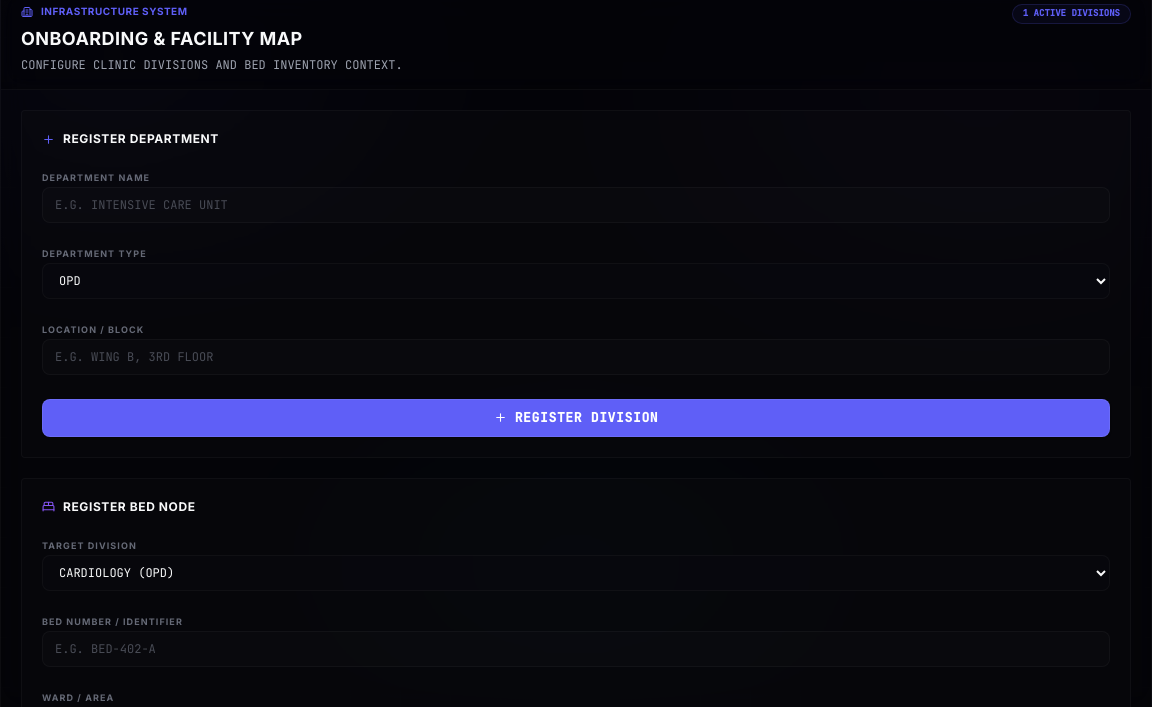
Test: HospitalSetupPanel › creates a bed for the selected department
Select "Cardiology (OPD)" in the dropdown named "Bed department" at (576, 572), box [42,554,1110,590]
Type "ICU-01" into the field labelled "Bed Number" at (576, 648), box [42,630,1110,666]
(page scrolled)
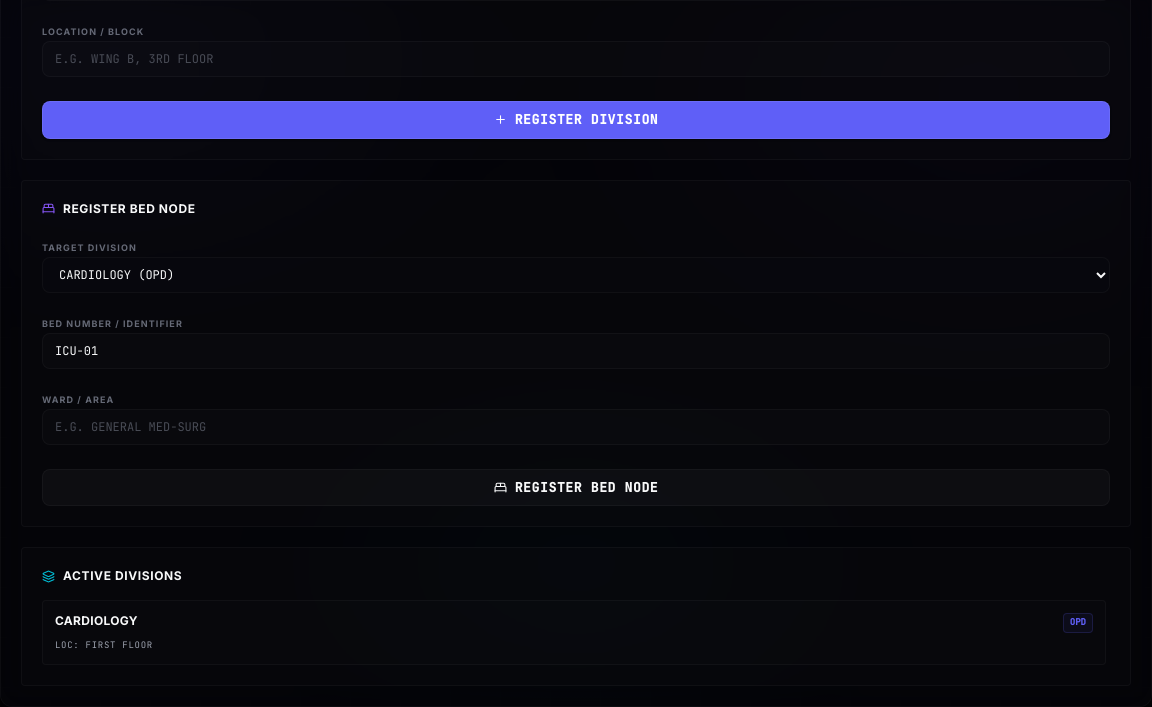
Type "ICU" into the field labelled "Ward" at (576, 426), box [42,408,1110,444]
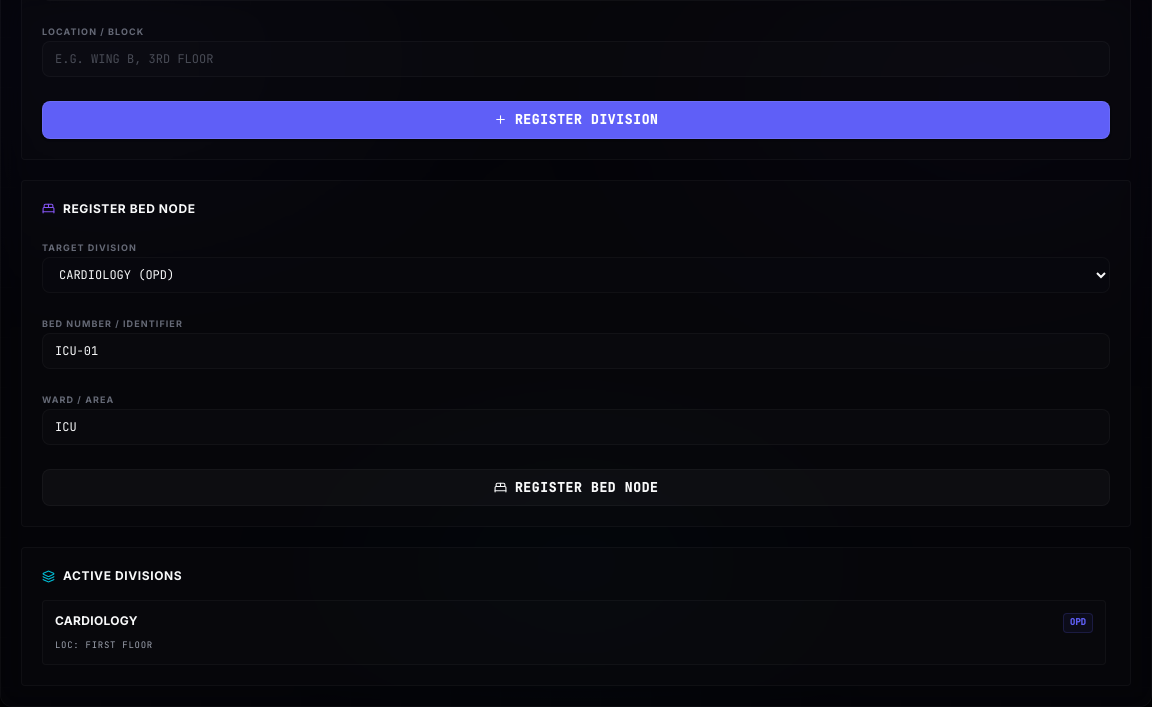
Click the button "Register Bed Node" at (576, 487), box [42,468,1110,506]
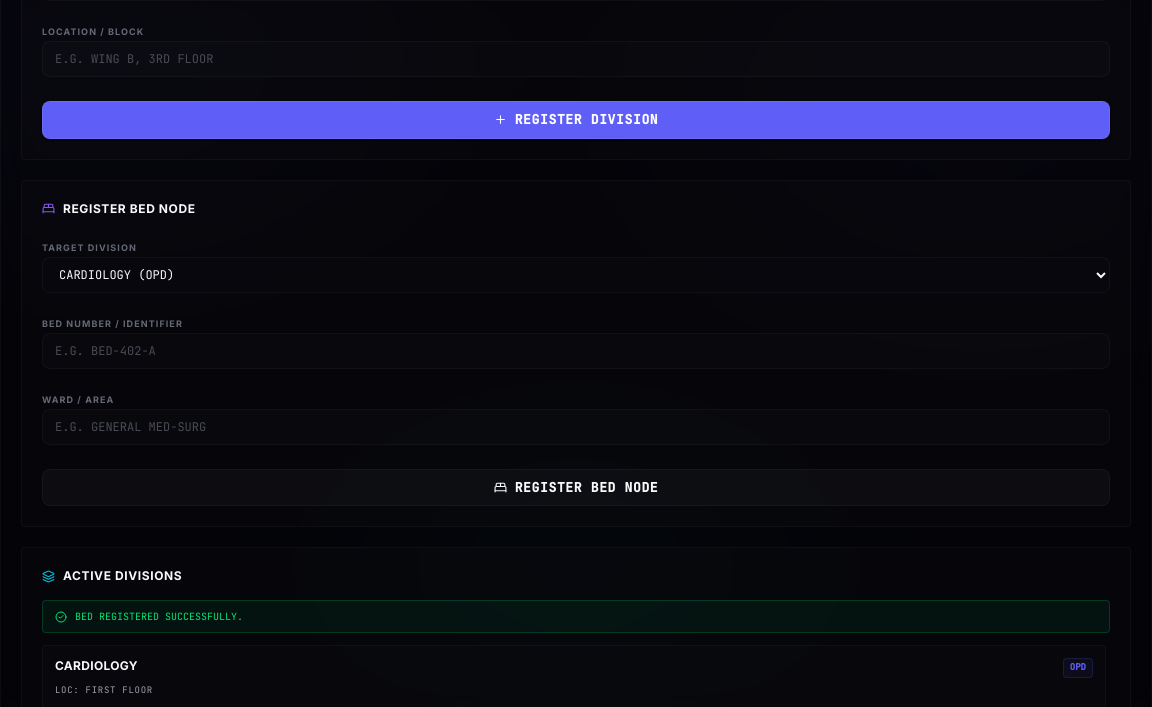
Result: the text "Bed registered successfully." is shown at [75,609,243,624]
